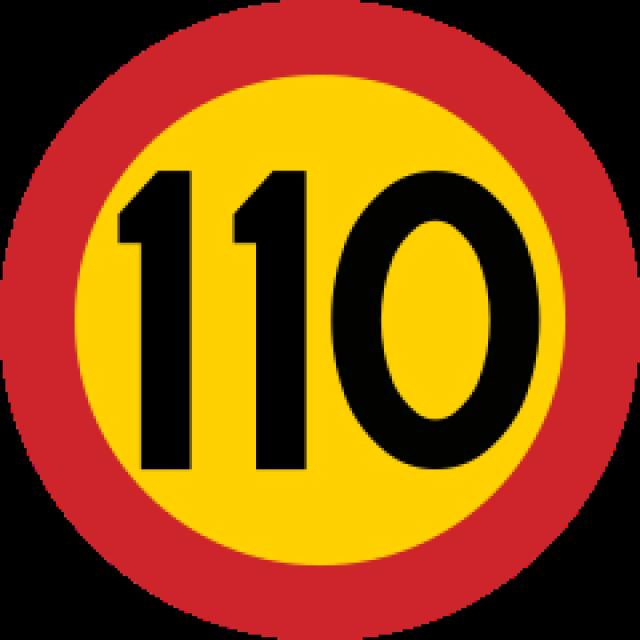Speed Limit -110-: (107, 158, 562, 482)
